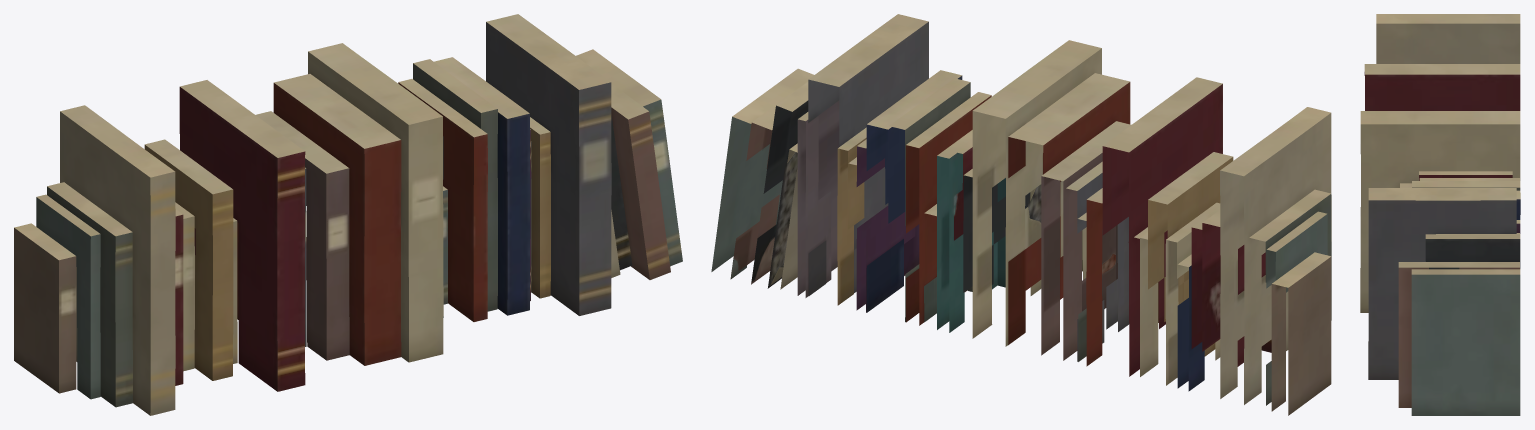
Rendered from book-row-90.glb.
3 views of the same model, side by side, from view 1: azimuth 30°, elevation 25°; view 2: azimuth 150°, elevation 25°; view 3: azimuth 270°, elevation 25° (orthographic). The views are drawn at different scales.
Parts seen in each view (by area): view 1: row_middle, row_right, row_left; view 2: row_middle, row_right, row_left; view 3: row_right, row_middle, row_left.
Boxes of the visible parts, x1,y1,x2,y2 form: row_middle: (179, 43, 447, 391); row_right: (398, 14, 682, 321); row_left: (14, 105, 237, 415); row_middle: (924, 40, 1222, 376); row_right: (711, 14, 991, 325); row_left: (1134, 107, 1331, 415); row_right: (1368, 181, 1520, 415); row_middle: (1360, 64, 1520, 312); row_left: (1376, 14, 1520, 63).
Bounding box in the file's own units: 0.8758 × 0.332 × 0.2545.
1 material, 1 textured.
